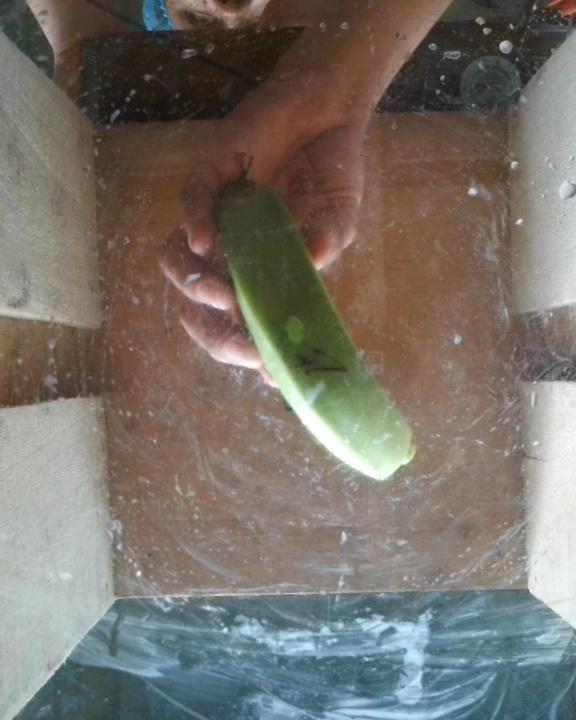CLASS B: (215, 180, 436, 489)
Class A: (294, 345, 352, 403)
